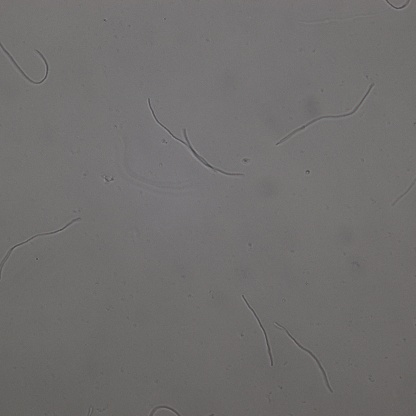Sensitive: (147, 98, 244, 176), (276, 83, 373, 145), (1, 216, 81, 272), (275, 323, 333, 393), (242, 294, 274, 364), (1, 44, 50, 85)
